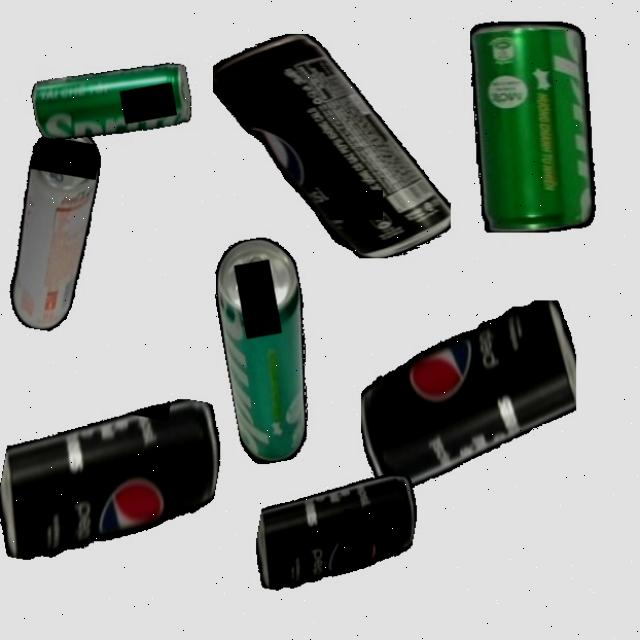debris: (212, 34, 451, 258), (0, 370, 229, 589), (360, 299, 576, 488), (207, 233, 329, 467), (249, 454, 423, 611), (470, 21, 596, 232), (2, 124, 106, 334), (30, 56, 194, 148)
